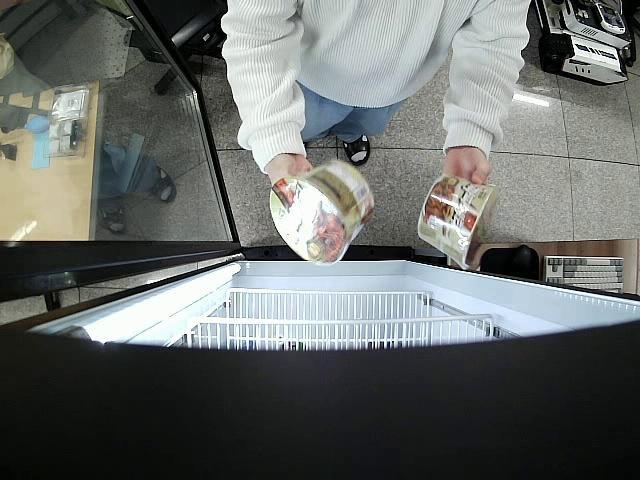03_chapagetti_L: (269, 158, 376, 264), (416, 173, 501, 270)
